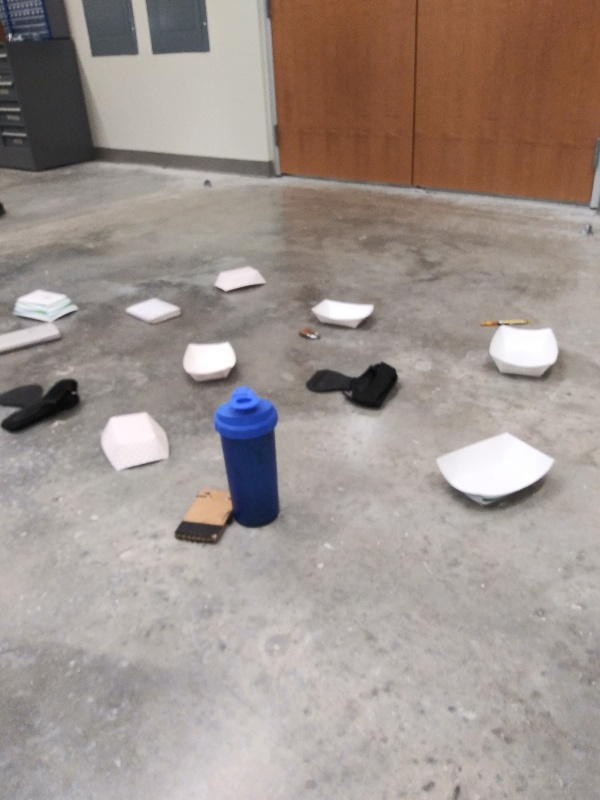plate: (428, 428, 560, 515), (97, 408, 176, 477), (483, 320, 565, 382), (179, 339, 239, 389), (5, 285, 81, 324), (308, 295, 377, 335), (212, 263, 269, 295)
